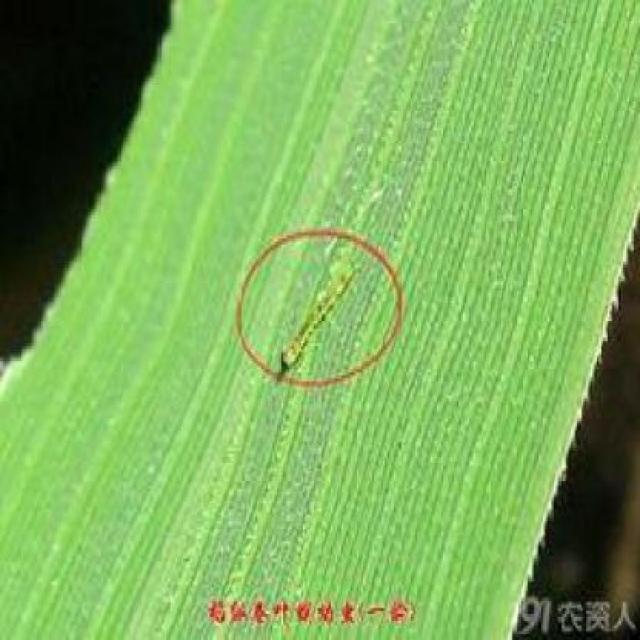leaf-folder: (255, 229, 374, 374)
